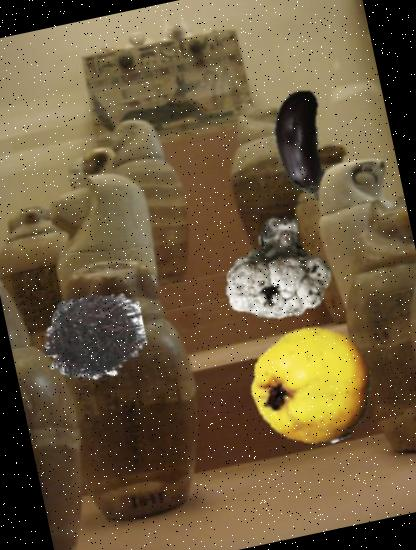Cauliflower: (213, 203, 343, 333)
Eggplant: (232, 77, 368, 214)
Quince: (240, 313, 386, 459)
Rambutan: (33, 276, 155, 399)
